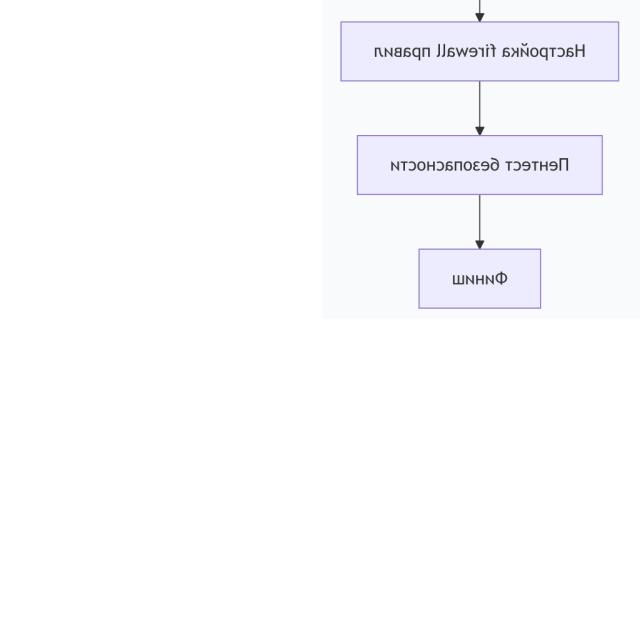arrow: (475, 195, 483, 248), (475, 82, 483, 134)
rectangle: (340, 22, 618, 81), (356, 135, 601, 194), (418, 249, 540, 308)
